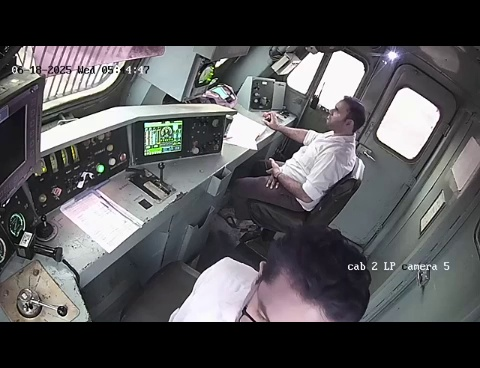brake_released: (0, 254, 105, 323)
horn_inactive: (26, 208, 66, 249)
